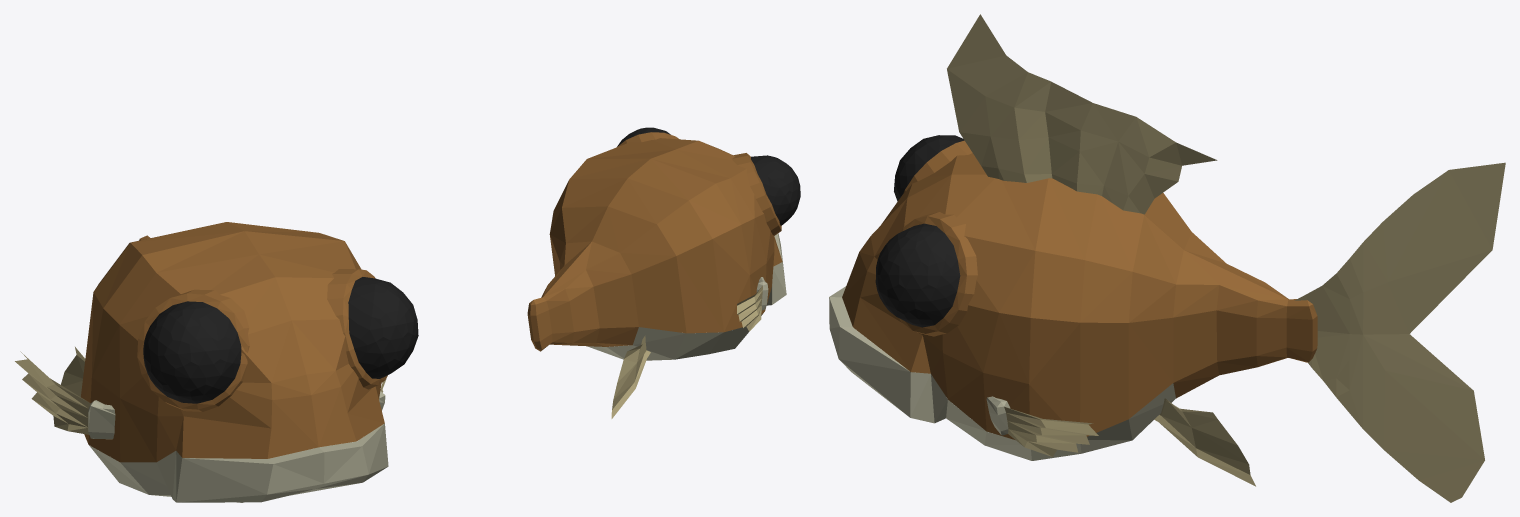
Rendered from goldfish.glb.
The picture shows the model from 3 angles, left to right: view 1: azimuth 30°, elevation 25°; view 2: azimuth 150°, elevation 25°; view 3: azimuth 270°, elevation 25°; orthographic projection. The views are drawn at different scales.
Parts seen in each view (by area): view 1: Cube.025_baked, Cube.001_baked; view 2: Cube.025_baked, Cube.001_baked; view 3: Cube.025_baked, Cube.001_baked.
Boxes of the visible parts, x1,y1,x2,y2 form: Cube.025_baked: (81, 222, 418, 462); Cube.001_baked: (15, 347, 388, 502); Cube.025_baked: (527, 127, 800, 351); Cube.001_baked: (587, 233, 786, 418); Cube.025_baked: (842, 135, 1317, 439); Cube.001_baked: (829, 14, 1505, 502).
Size of the model in its own units: 3.2 by 4.51 by 5.59.
